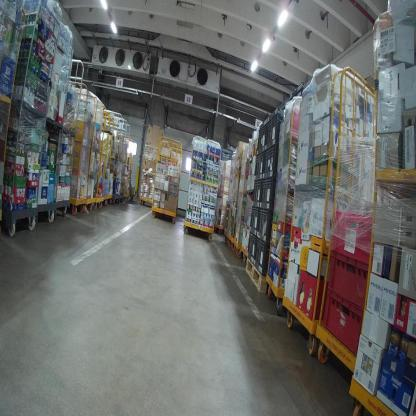pallets: (247, 254, 268, 297), (181, 220, 215, 241)
